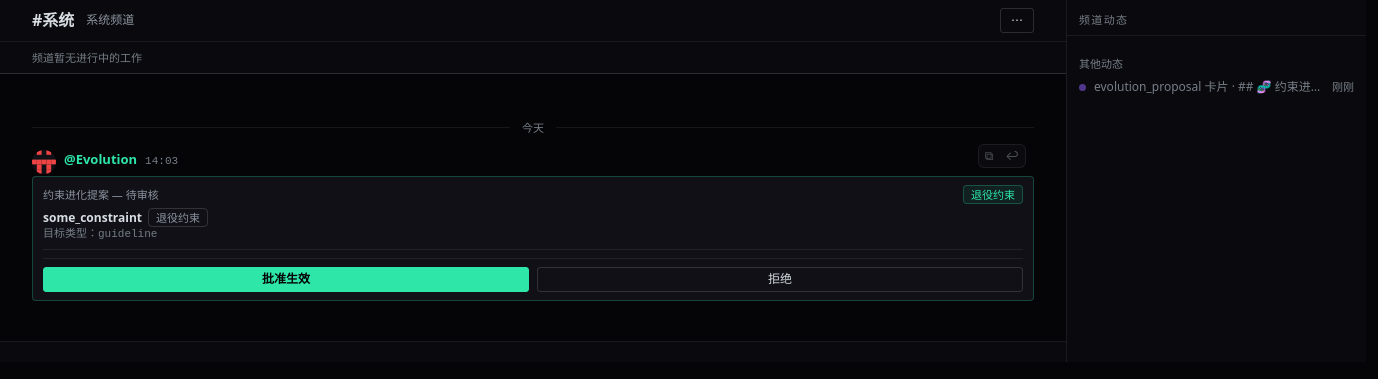
ChannelDetailPage — evolution_proposal 审核分发 › reject → POST /review-proposals/evolution/:proposalId/reject，卡片显示已拒绝
Click the button "拒绝" at x=780, y=279, box [537,267,1023,292]
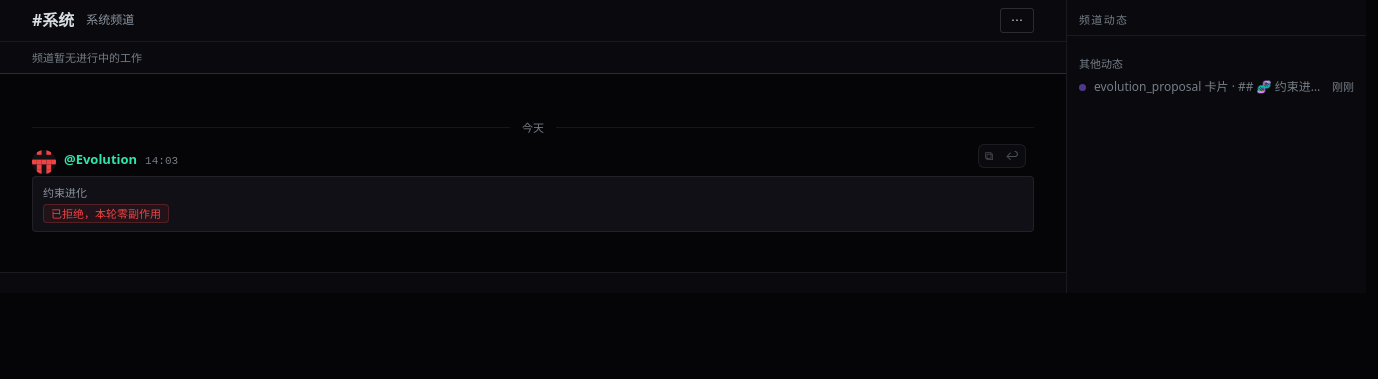
Result: the text "已拒绝，本轮零副作用" is shown at [43,204,169,223]
